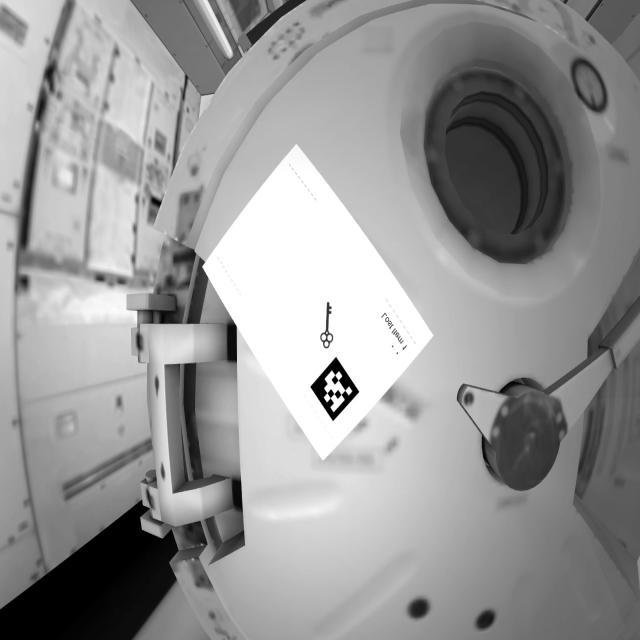key: (316, 298, 338, 356)
